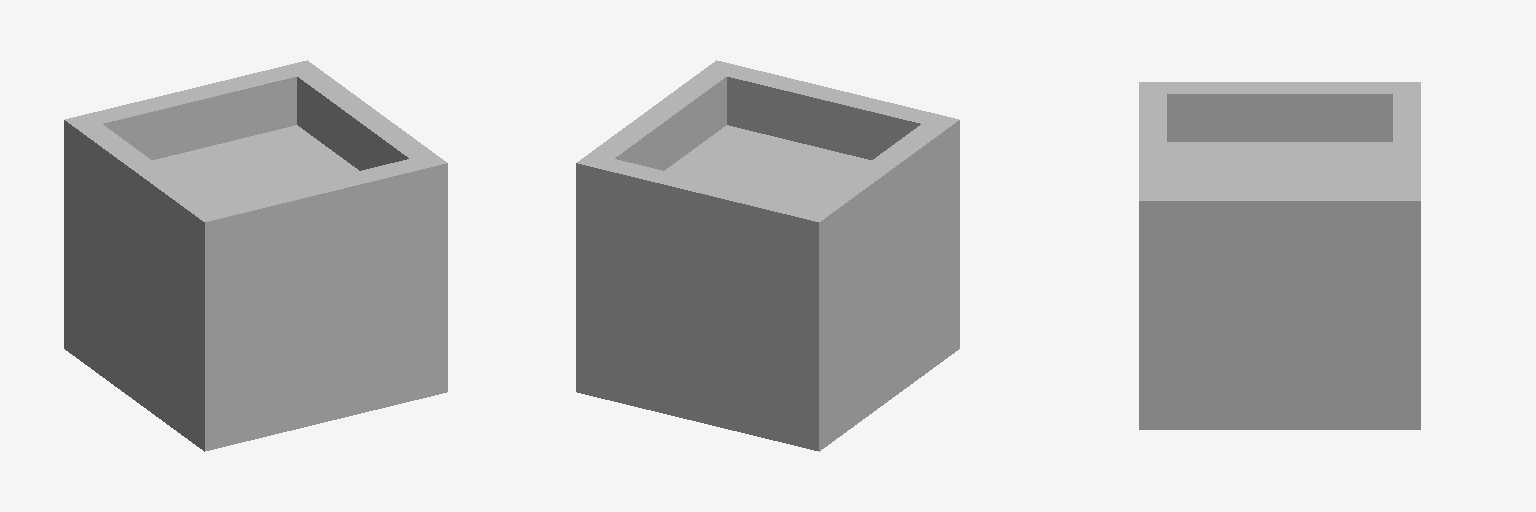
File: mcl_tea_cup_acacia.obj
The picture shows the model from 3 angles: view 1: azimuth 30°, elevation 25°; view 2: azimuth 150°, elevation 25°; view 3: azimuth 270°, elevation 25°; orthographic projection.
Visible parts, largest first — view 1: Cube_Cube, Cube.001_Cube.001; view 2: Cube_Cube, Cube.001_Cube.001; view 3: Cube_Cube, Cube.001_Cube.001.
Part boxes in pixels (x1,y1,x2,y2): Cube_Cube: (64, 60, 447, 451); Cube.001_Cube.001: (152, 125, 358, 205); Cube_Cube: (576, 60, 959, 451); Cube.001_Cube.001: (665, 125, 871, 205); Cube_Cube: (1139, 82, 1420, 429); Cube.001_Cube.001: (1167, 142, 1392, 188).
Size of the model in its own units: 0.625 by 0.5625 by 0.625.